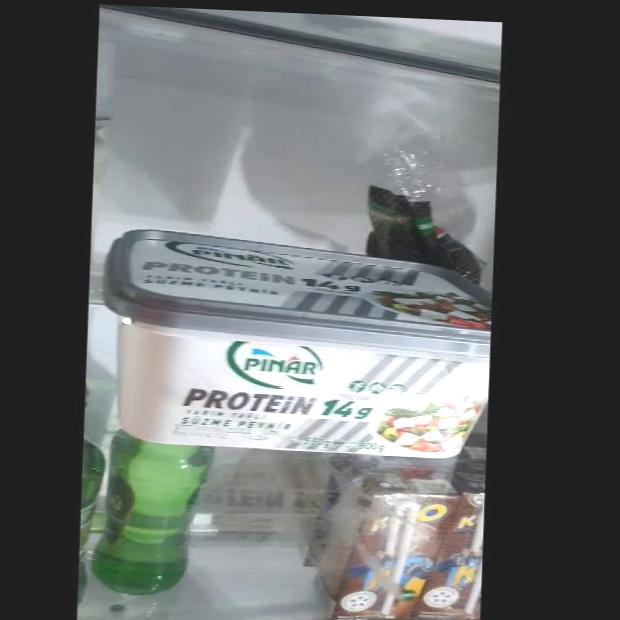cheese: (102, 227, 493, 458)
